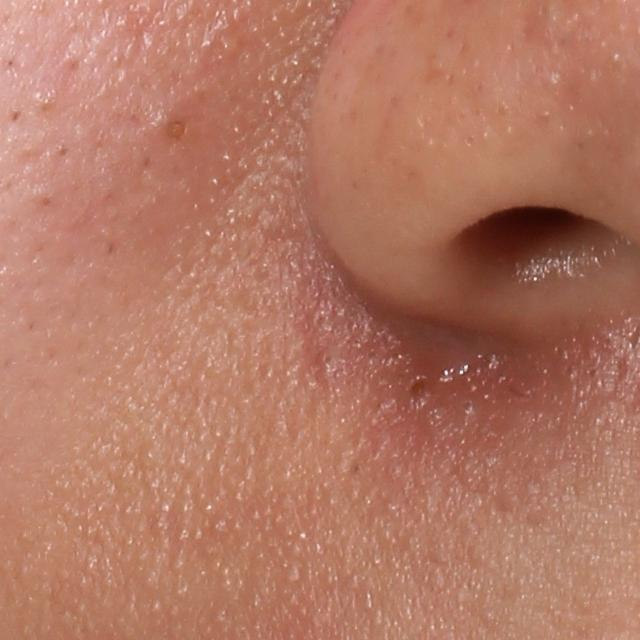comedo: (161, 115, 190, 146), (319, 351, 339, 373)
